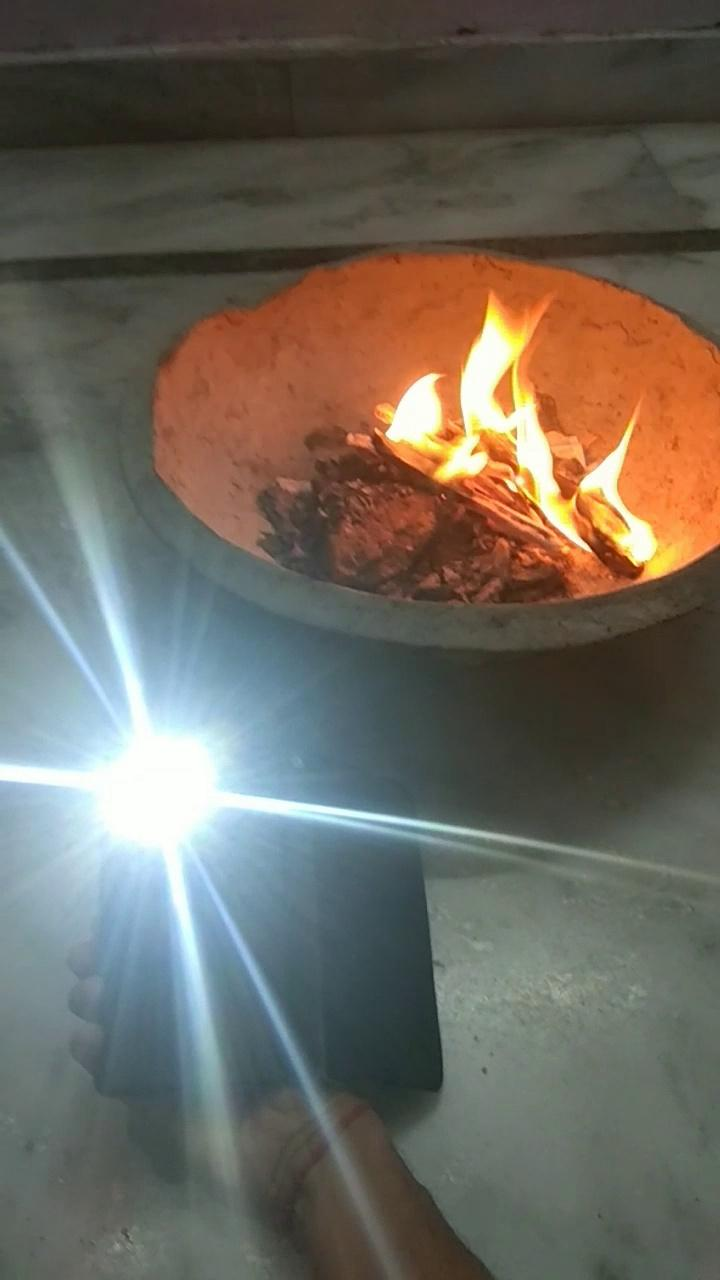fire: (377, 294, 679, 569)
